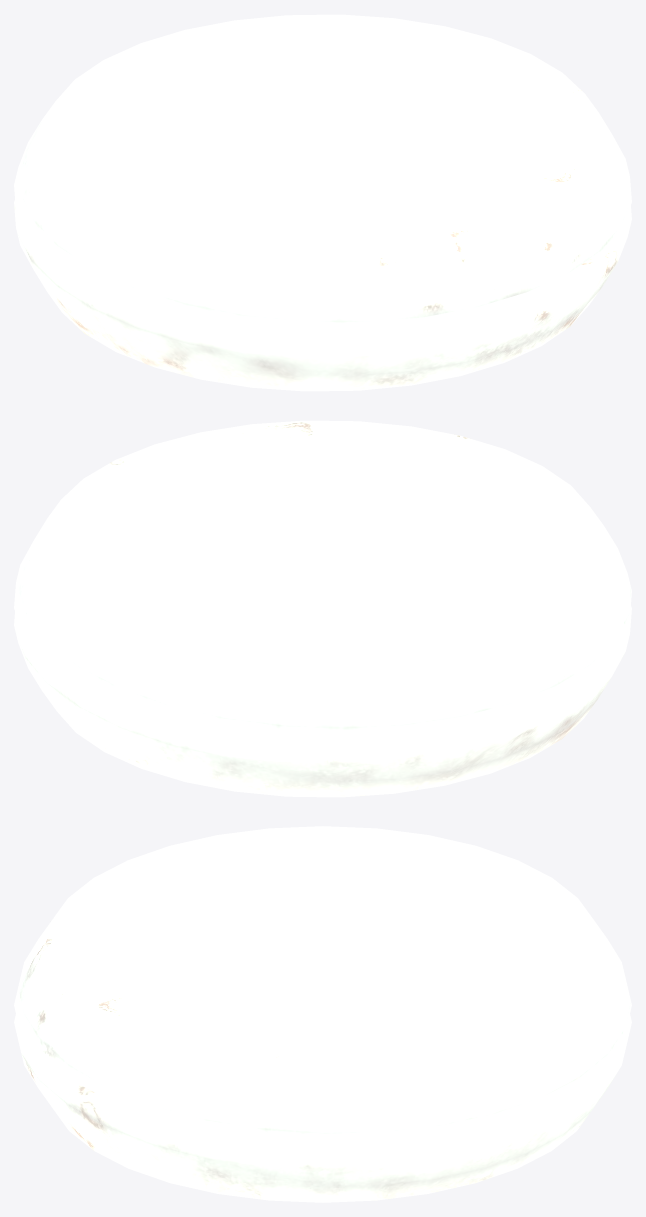
Rendered from fanbody.glb.
3 renders of one model, top to bottom at view 1: azimuth 30°, elevation 25°; view 2: azimuth 150°, elevation 25°; view 3: azimuth 270°, elevation 25°, orthographic.
Visible parts, largest first — view 1: fanbody; view 2: fanbody; view 3: fanbody.
Part boxes in pixels (<box>): fanbody: <box>14,14,631,391</box>; fanbody: <box>14,420,631,797</box>; fanbody: <box>14,826,631,1202</box>.
Size of the model in its own units: 2.3 by 0.6801 by 2.3.
Materials: 3 (1 with a texture image).
